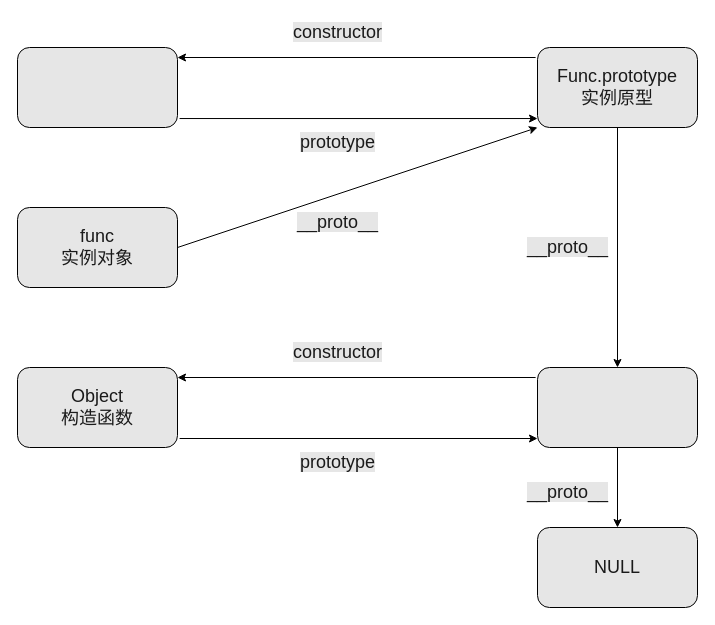
This 715x625 diagram has some shape labels left out. Here are the shapes that lost their labels. From the top down, the centre of each, then its label:
(x=97, y=87): Func 构造函数
(x=617, y=407): Object.prototype
